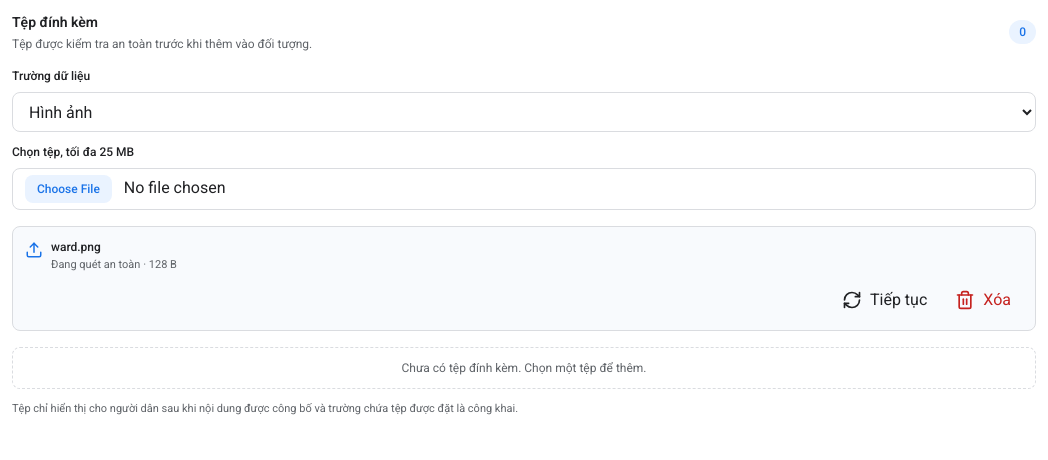
it: feature attachment panel › restores pending metadata after reload and reports a scanner failure without preview
Click the button "Tiếp tục" at (885, 300), box [830,282,939,318]
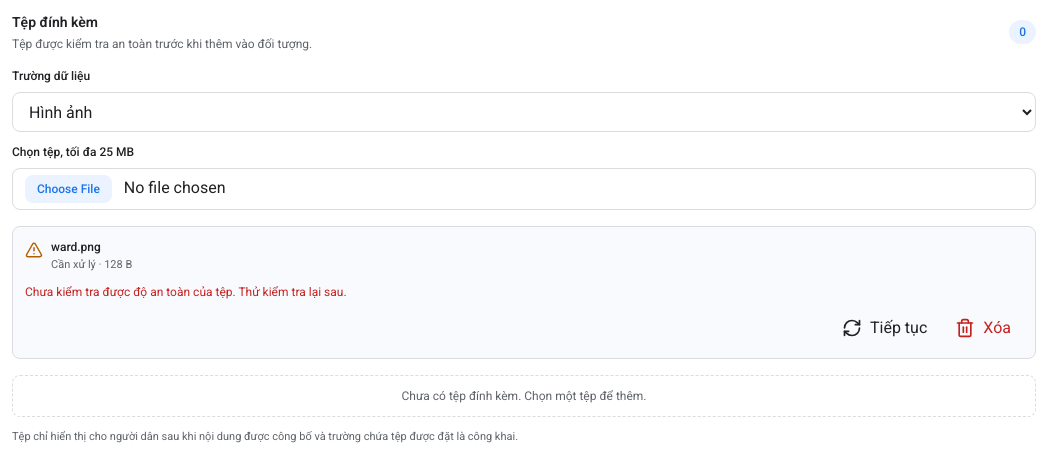
Check: the text "Chưa kiểm tra được độ an toàn của tệp. Thử kiểm tra lại sau." is shown, box [25,284,347,298]
